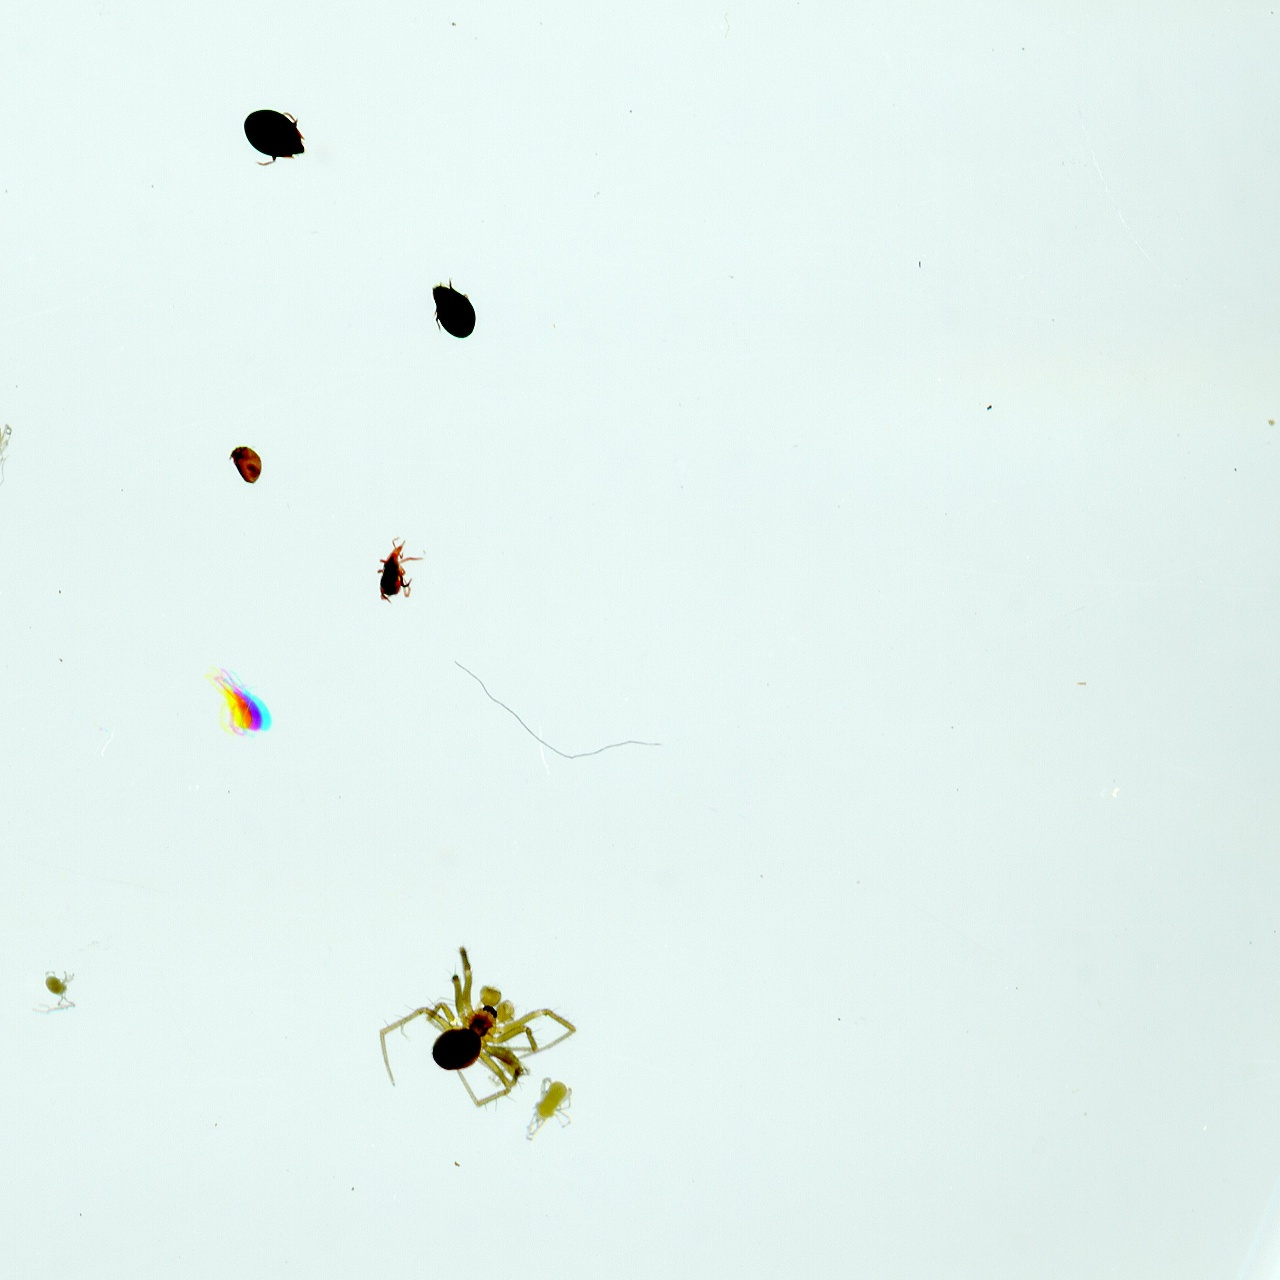arthropod: (373, 934, 584, 1116), (193, 653, 281, 751), (512, 1068, 590, 1156), (223, 98, 309, 170), (368, 518, 424, 613), (0, 394, 38, 536), (420, 270, 481, 342), (25, 966, 81, 1019)
